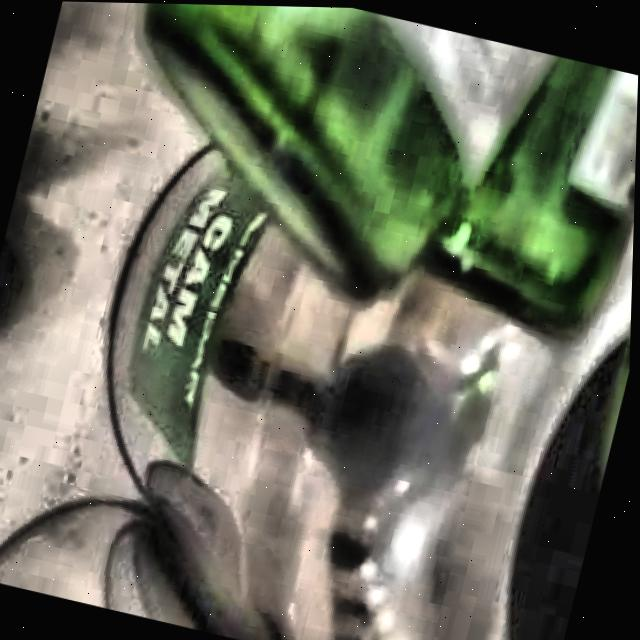glass: (146, 3, 639, 337)
